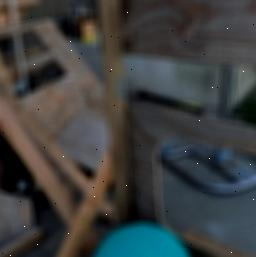algae: (92, 222, 197, 257)
